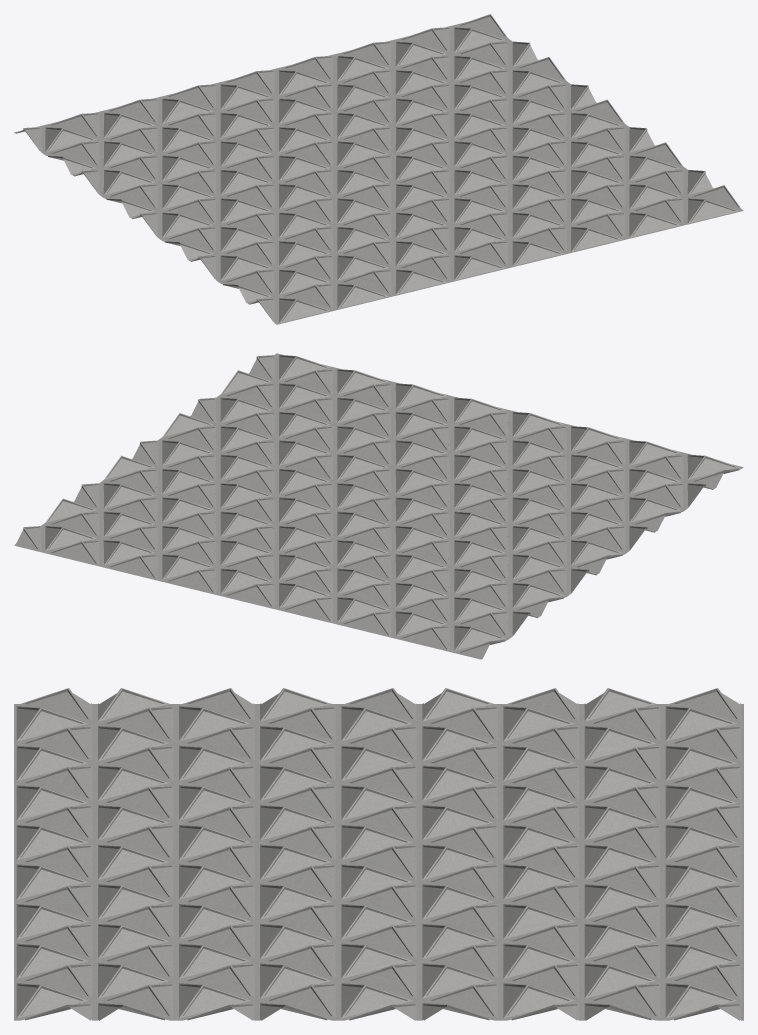
File: Stadium_Celing_Design.FBX
3 views of the same model, one above another, from view 1: azimuth 30°, elevation 25°; view 2: azimuth 150°, elevation 25°; view 3: azimuth 270°, elevation 25° (orthographic). The views are drawn at different scales.
Parts seen in each view (by area): view 1: Stadium_Celing_Design; view 2: Stadium_Celing_Design; view 3: Stadium_Celing_Design.
Boxes of the visible parts, left/top/right/bottom form: Stadium_Celing_Design: left=14, top=14, right=743, bottom=324; Stadium_Celing_Design: left=14, top=353, right=743, bottom=659; Stadium_Celing_Design: left=14, top=688, right=743, bottom=1020.
Size of the model in its own units: 43679 by 1045 by 42555.
